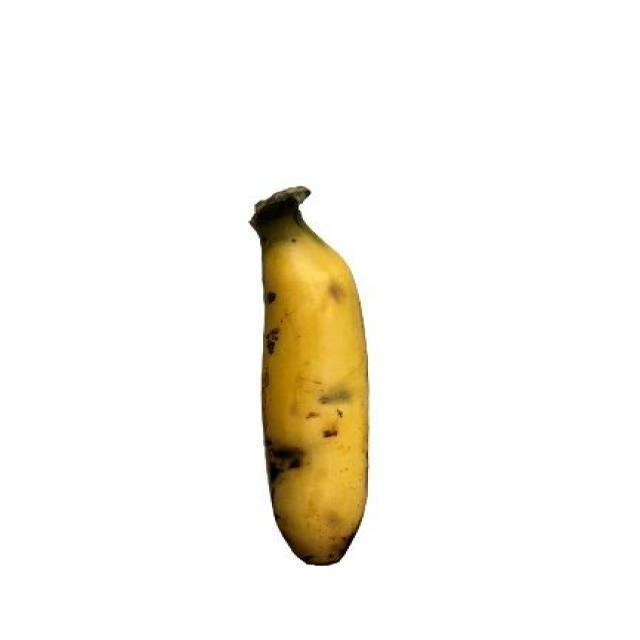Banana: (256, 224, 377, 571)
